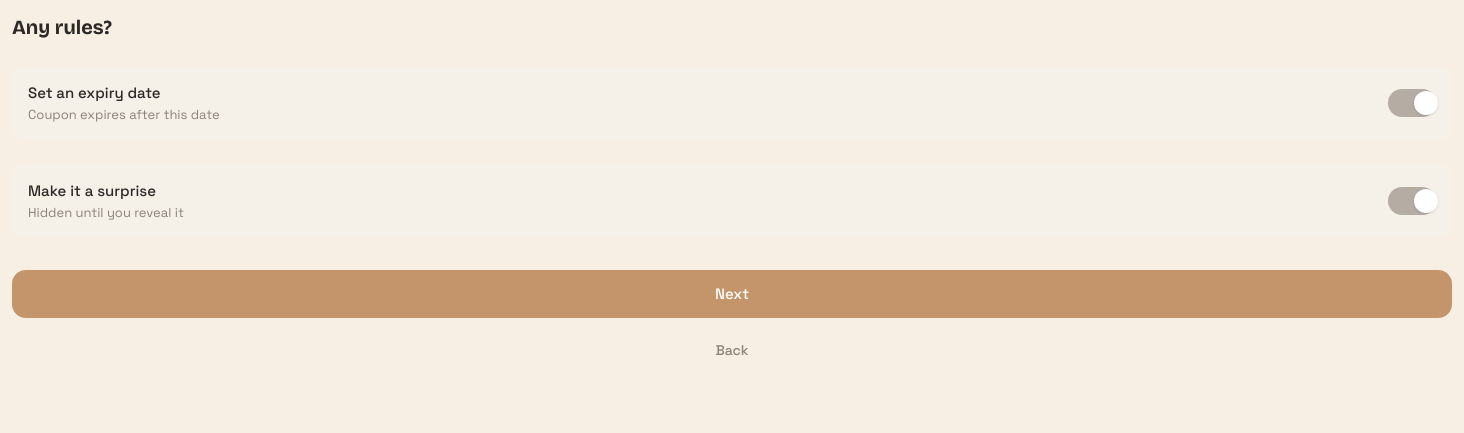
Test: CreateCouponStep2 › Interaction › toggling expiry on shows date picker, toggling off hides it
This screenshot has width=1464, height=433.
// Toggle expiry on
Click the switch with test id "expiry-toggle".
click(1412, 103)  # box left=1388, top=89, right=1436, bottom=117
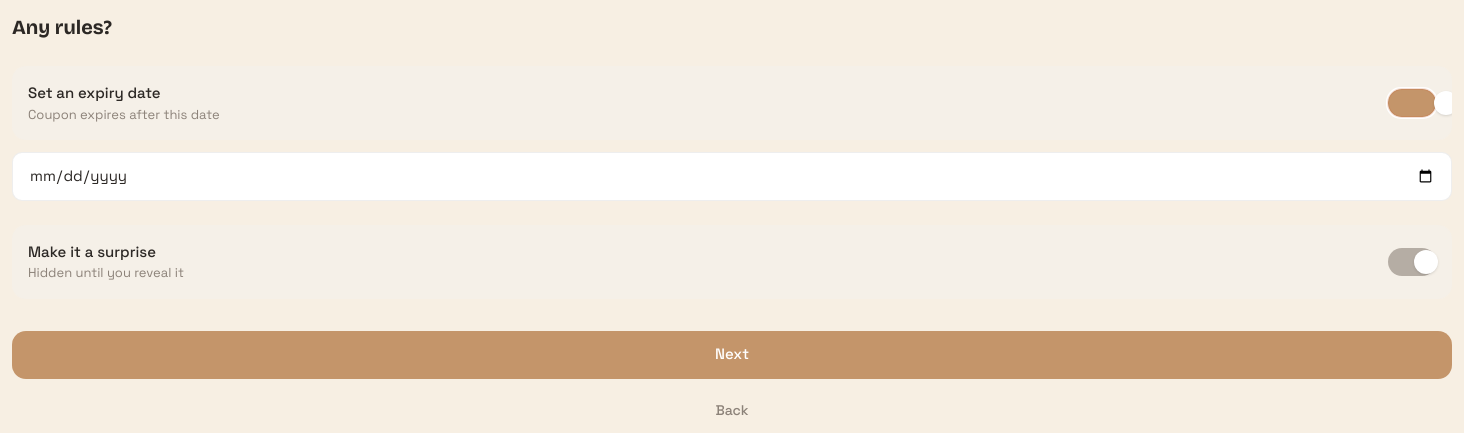
Check: the date field with test id "expiry-date" is shown, box left=12, top=152, right=1452, bottom=200
// Toggle expiry off
Click the switch with test id "expiry-toggle".
click(1412, 103)  # box left=1388, top=89, right=1436, bottom=117
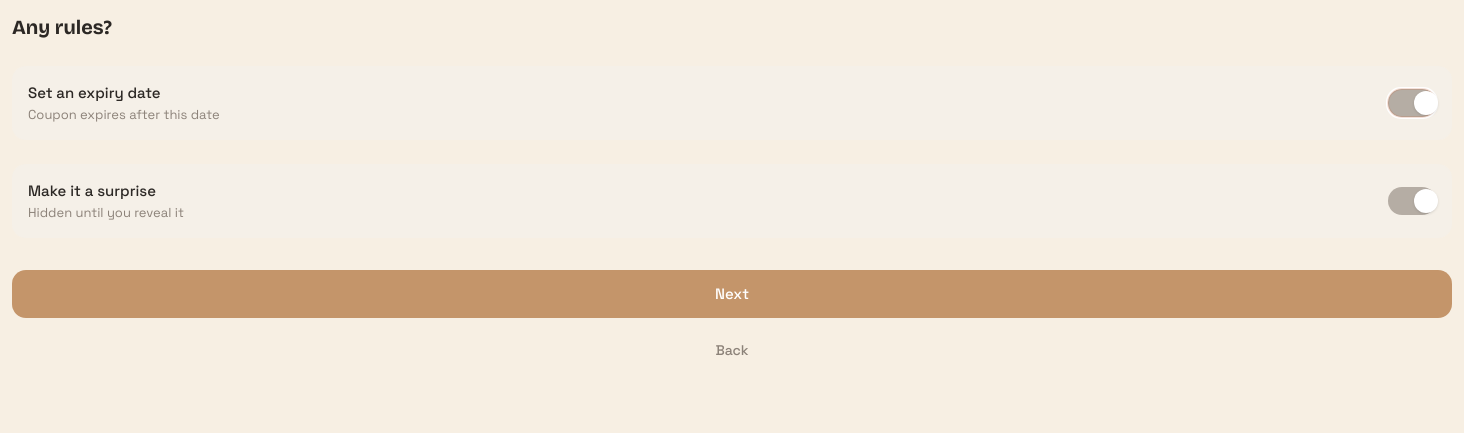
Check: the date field with test id "expiry-date" is gone
